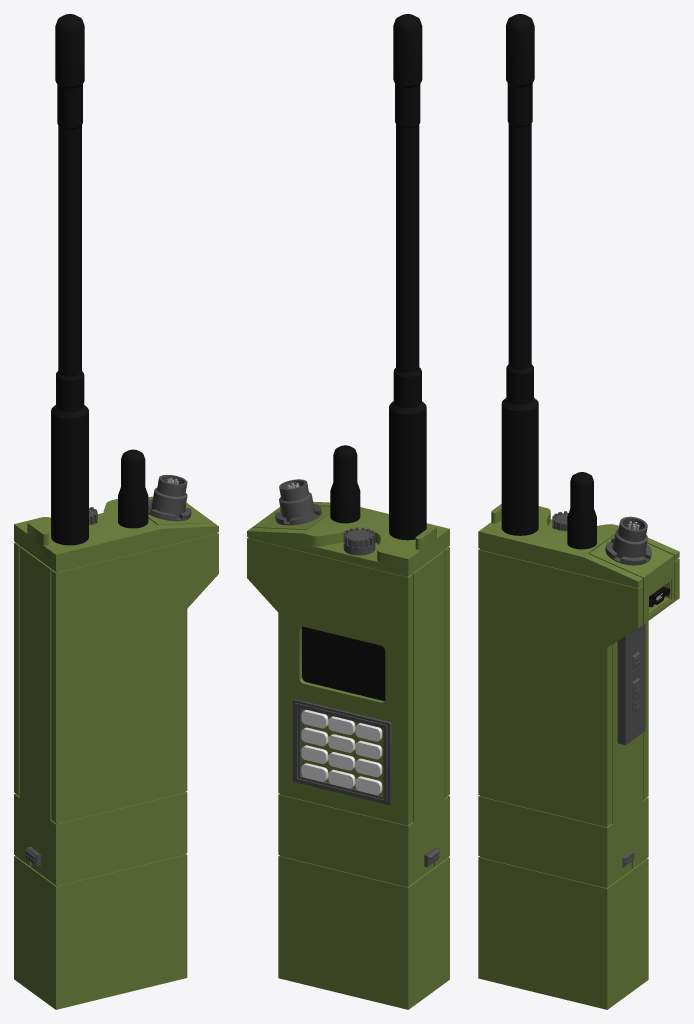
Rendered from radiotelephone.fbx.
The picture shows the model from 3 angles, left to right: view 1: azimuth 30°, elevation 25°; view 2: azimuth 150°, elevation 25°; view 3: azimuth 330°, elevation 25°; orthographic projection.
Visible parts, largest first — view 1: radiotelephone; view 2: radiotelephone; view 3: radiotelephone.
Boxes of the visible parts, <box> form: radiotelephone: <box>14,14,218,1009</box>; radiotelephone: <box>247,14,449,1009</box>; radiotelephone: <box>478,14,679,1009</box>.
Bounding box in the file's own units: 57.35 × 317 × 26.02.
